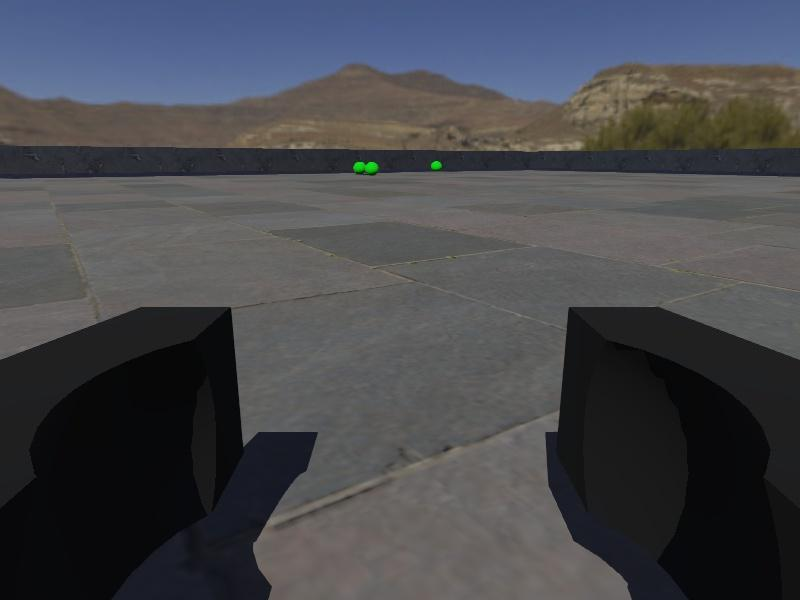green ball: (365, 162, 378, 175), (430, 160, 442, 172)
